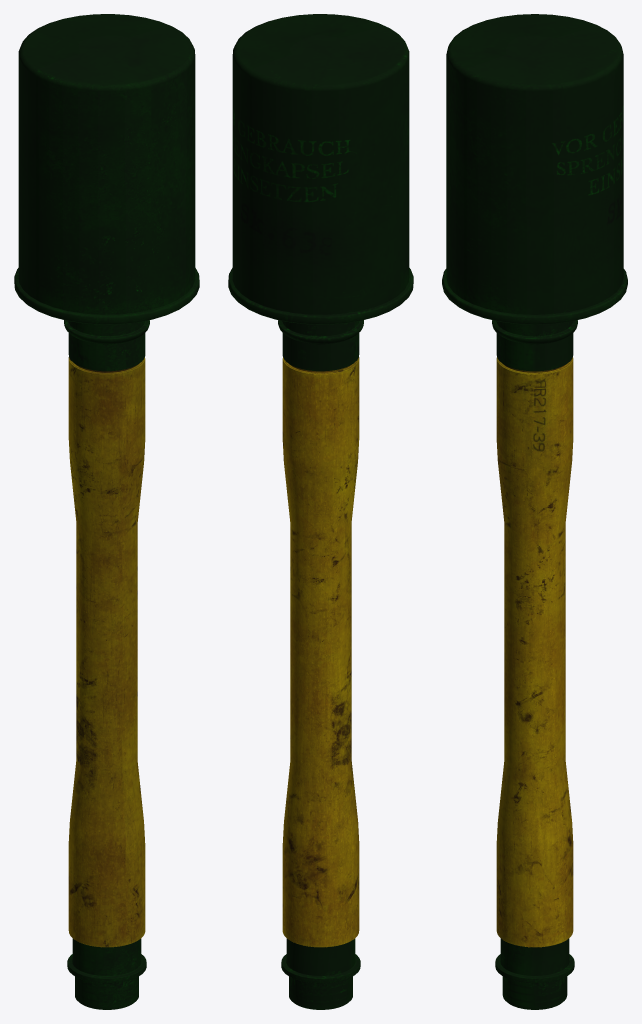
Rendered from grenade2.glb.
3 views of the same model, side by side, from view 1: azimuth 30°, elevation 25°; view 2: azimuth 150°, elevation 25°; view 3: azimuth 270°, elevation 25° (orthographic).
Parts seen in each view (by area): view 1: Stielhandgranate_low; view 2: Stielhandgranate_low; view 3: Stielhandgranate_low.
Part boxes in pixels (box(x1,y1,x2,y2)): Stielhandgranate_low: box(14, 14, 199, 1009); Stielhandgranate_low: box(228, 14, 413, 1009); Stielhandgranate_low: box(442, 14, 627, 1009).
Size of the model in its own units: 37.73 by 213 by 37.73.
Materials: 1 (1 with a texture image).
